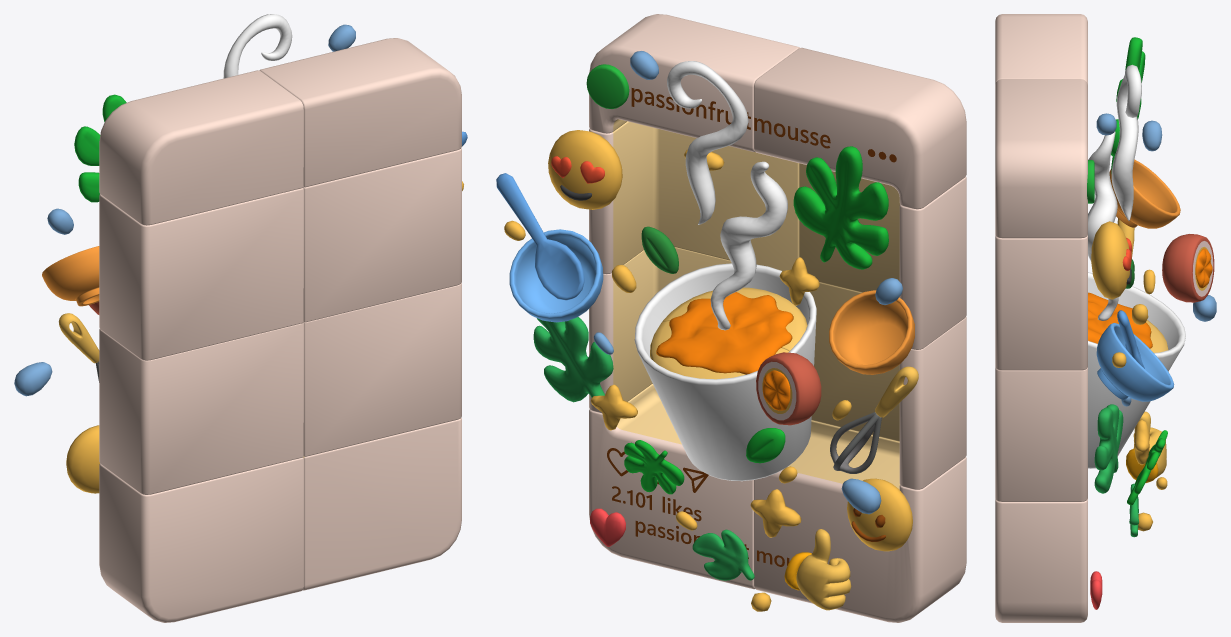
File: Level_P_34.fbx
3 renders of one model, left to right at view 1: azimuth 30°, elevation 25°; view 2: azimuth 150°, elevation 25°; view 3: azimuth 270°, elevation 25°, orthographic. The views are drawn at different scales.
Parts seen in each view (by area): view 1: Cube.377, Cube.375, Cube.372, Cube.373, Cube.371, Cube.376, Cube.374, Cube.365, Cylinder.239, Sphere.038, Cube.395, Cube.378 (+2 smaller); view 2: Cube.373, Cube.372, Cube.371, Cube.374, rocks glass.006, Cube.375, Cube.365, Cube.377, Cylinder.237, Cube.395, Cube.376, Cylinder.239 (+23 smaller); view 3: Cube.365, Cube.371, Cube.376, Cube.374, Cube.373, rocks glass.006, Cylinder.238, FruitPie_005.015, Cube.378, Cylinder.239, Sphere.039, Cube.397 (+14 smaller).
Part boxes in pixels (left/top/right/bottom): Cube.377: left=99, top=188, right=303, bottom=360; Cube.375: left=99, top=323, right=303, bottom=494; Cube.372: left=99, top=457, right=303, bottom=622; Cube.373: left=99, top=70, right=303, bottom=225; Cube.371: left=303, top=148, right=461, bottom=322; Cube.376: left=303, top=283, right=461, bottom=456; Cube.374: left=303, top=418, right=461, bottom=590; Cube.365: left=259, top=38, right=461, bottom=187; Cylinder.239: left=42, top=246, right=99, bottom=306; Sphere.038: left=66, top=425, right=99, bottom=493; Cube.395: left=74, top=94, right=126, bottom=202; Cube.378: left=223, top=14, right=292, bottom=78; Cube.373: left=754, top=47, right=966, bottom=209; Cube.372: left=754, top=420, right=966, bottom=622; Cube.371: left=589, top=121, right=799, bottom=274; Cube.374: left=589, top=384, right=754, bottom=589; rocks glass.006: left=634, top=263, right=816, bottom=481; Cube.375: left=810, top=282, right=966, bottom=489; Cube.365: left=589, top=14, right=799, bottom=151; Cube.377: left=799, top=163, right=966, bottom=349; Cylinder.237: left=656, top=292, right=793, bottom=374; Cube.395: left=793, top=146, right=888, bottom=269; Cube.376: left=589, top=247, right=731, bottom=413; Cylinder.239: left=829, top=290, right=914, bottom=374; Cube.365: left=995, top=79, right=1087, bottom=238; Cube.371: left=995, top=235, right=1087, bottom=370; Cube.376: left=995, top=367, right=1087, bottom=501; Cube.374: left=995, top=498, right=1087, bottom=622; Cube.373: left=995, top=14, right=1087, bottom=84; rocks glass.006: left=1088, top=272, right=1185, bottom=468; Cylinder.238: left=1096, top=323, right=1174, bottom=401; FruitPie_005.015: left=1162, top=234, right=1214, bottom=302; Cube.378: left=1111, top=64, right=1141, bottom=220; Cylinder.239: left=1109, top=159, right=1180, bottom=228; Sphere.039: left=1091, top=221, right=1131, bottom=299; Cube.397: left=1088, top=131, right=1118, bottom=320.
Bounding box in the file's own units: 12.04 × 14.55 × 5.77.
